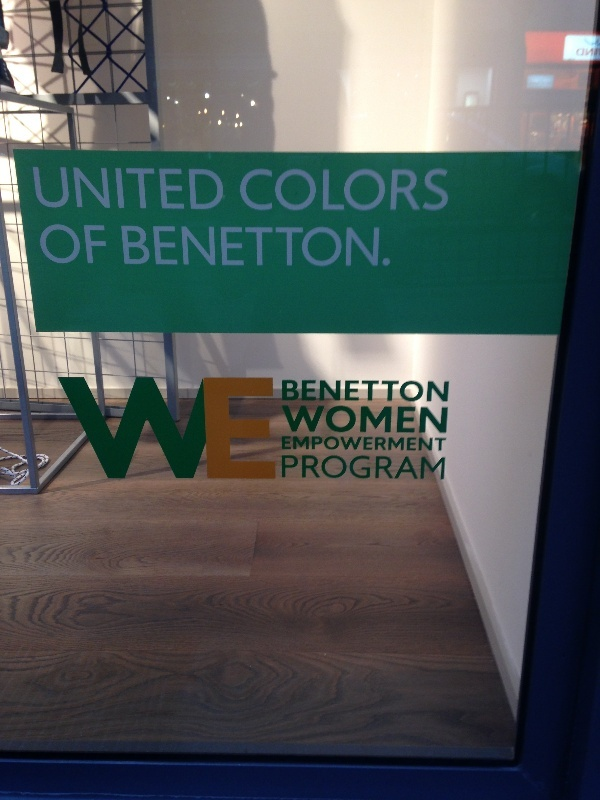text: (65, 377, 80, 480), (81, 377, 96, 480), (97, 377, 112, 480), (113, 377, 128, 480), (129, 377, 144, 480), (145, 377, 160, 480), (161, 377, 176, 480), (177, 377, 192, 480), (193, 377, 208, 480), (209, 377, 224, 480), (225, 377, 240, 480), (241, 377, 256, 480), (257, 377, 272, 480), (433, 168, 449, 213), (33, 167, 48, 212), (49, 167, 64, 212), (65, 167, 80, 212), (81, 167, 96, 212), (97, 167, 112, 212), (113, 167, 128, 212), (129, 167, 144, 212), (145, 167, 160, 212), (161, 167, 176, 212), (177, 167, 192, 212), (193, 167, 208, 212), (209, 167, 224, 212), (257, 168, 272, 213), (273, 168, 288, 213), (289, 168, 304, 213), (305, 168, 320, 213), (321, 168, 336, 213), (337, 168, 352, 213), (353, 168, 368, 213), (369, 168, 384, 213), (385, 168, 400, 213), (401, 168, 416, 213), (417, 168, 432, 213), (49, 224, 64, 266), (65, 224, 80, 266), (81, 224, 96, 266), (129, 225, 144, 267), (145, 225, 160, 267), (161, 225, 176, 267), (177, 225, 192, 267), (193, 225, 208, 267), (209, 225, 224, 267), (225, 225, 240, 267), (241, 225, 256, 267), (257, 225, 272, 267), (273, 225, 288, 267), (289, 225, 304, 267), (305, 225, 320, 267), (321, 225, 336, 267), (337, 225, 352, 267), (353, 225, 368, 267), (369, 225, 384, 267), (58, 377, 64, 480), (243, 168, 256, 213), (36, 224, 48, 266), (433, 405, 449, 434), (97, 224, 108, 266), (289, 405, 304, 434), (305, 405, 320, 434), (321, 405, 336, 434), (337, 405, 352, 434), (353, 405, 368, 434), (369, 405, 384, 434), (385, 405, 400, 434), (401, 405, 416, 434), (417, 405, 432, 434), (289, 454, 304, 480), (305, 454, 320, 480), (321, 454, 336, 480), (337, 454, 352, 480), (353, 454, 368, 480), (369, 454, 384, 480), (385, 454, 400, 480), (401, 454, 416, 480), (417, 454, 432, 480), (289, 380, 304, 403), (305, 380, 320, 403), (321, 380, 336, 403), (337, 380, 352, 403), (353, 380, 368, 403), (369, 380, 384, 403), (385, 380, 400, 403), (401, 380, 416, 403), (417, 380, 432, 403), (433, 380, 448, 403), (433, 454, 446, 480), (385, 225, 393, 267), (273, 377, 276, 480), (122, 225, 128, 267), (289, 436, 304, 452), (305, 436, 320, 452), (321, 436, 336, 452), (337, 436, 352, 452), (353, 436, 368, 452), (369, 436, 384, 452), (385, 436, 400, 452), (401, 436, 416, 452), (417, 436, 432, 452), (433, 436, 447, 452), (281, 405, 288, 434), (282, 454, 288, 480), (282, 380, 288, 403), (578, 48, 592, 57), (282, 436, 288, 452), (530, 81, 544, 87), (593, 48, 600, 57), (225, 167, 226, 212), (545, 81, 553, 85), (449, 380, 450, 403), (543, 81, 544, 85)
